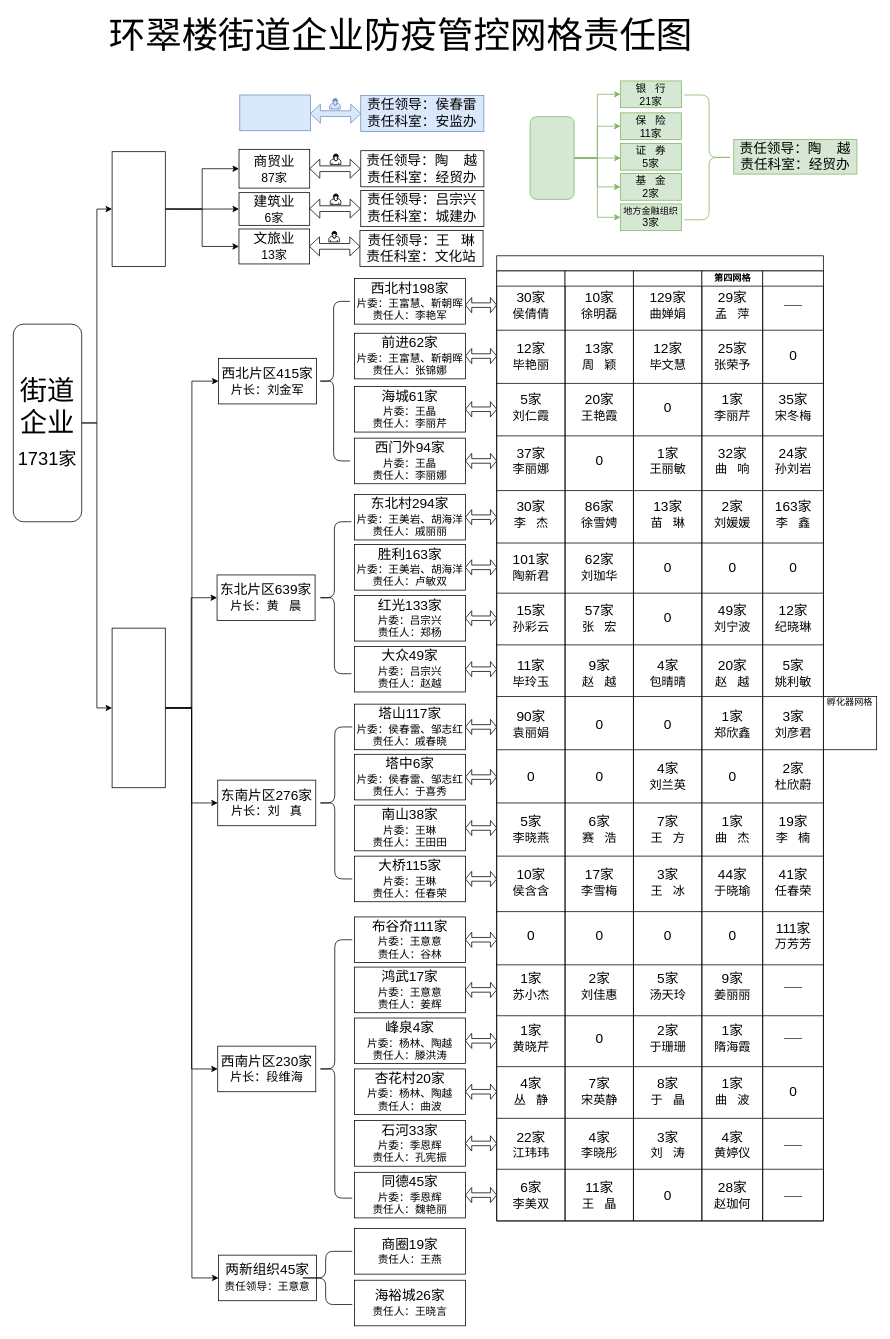
This 890x1339 diagram has some shape labels left out. Here are the shapes that lost their labels. From the top down, the box of each, then its label:
(239, 94, 310, 131): 渔业 9家
(529, 116, 574, 199): 金融 机构 42家
(111, 151, 165, 266): 规上 企业 126家
(111, 627, 165, 788): 规上 企业 1605家
(823, 696, 877, 750): 23家 王晓言
(496, 270, 565, 1221): 第一网格
(564, 270, 633, 1221): 第二网格
(496, 255, 823, 1221): 社 区 网 格 划 分
(633, 270, 702, 1221): 第三网格
(762, 270, 823, 1221): 第五网格
